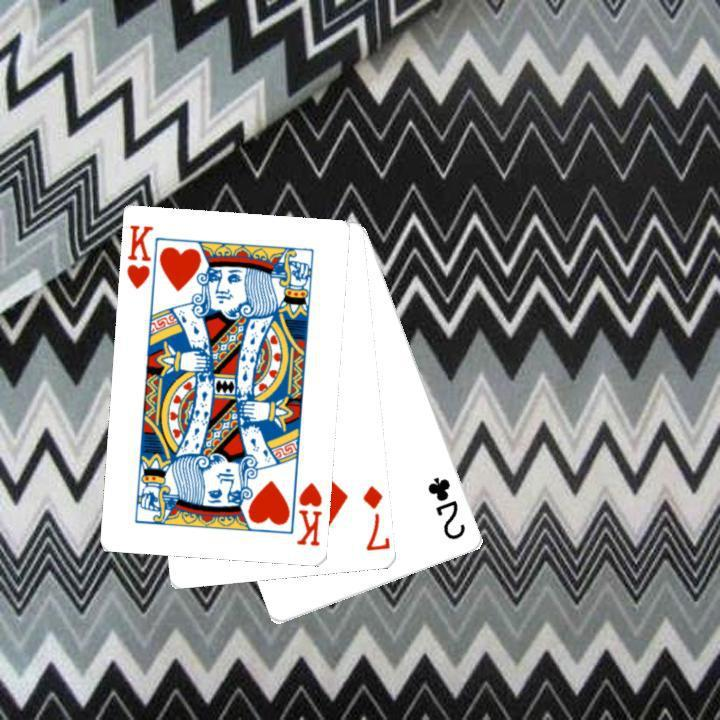2: (423, 473, 468, 542)
7: (359, 481, 389, 554)
K: (123, 221, 156, 292), (293, 479, 325, 548)
